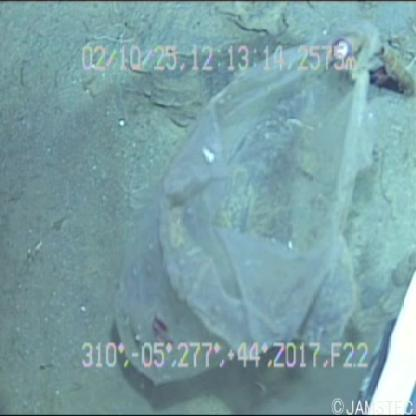Rác: (105, 19, 399, 404)
